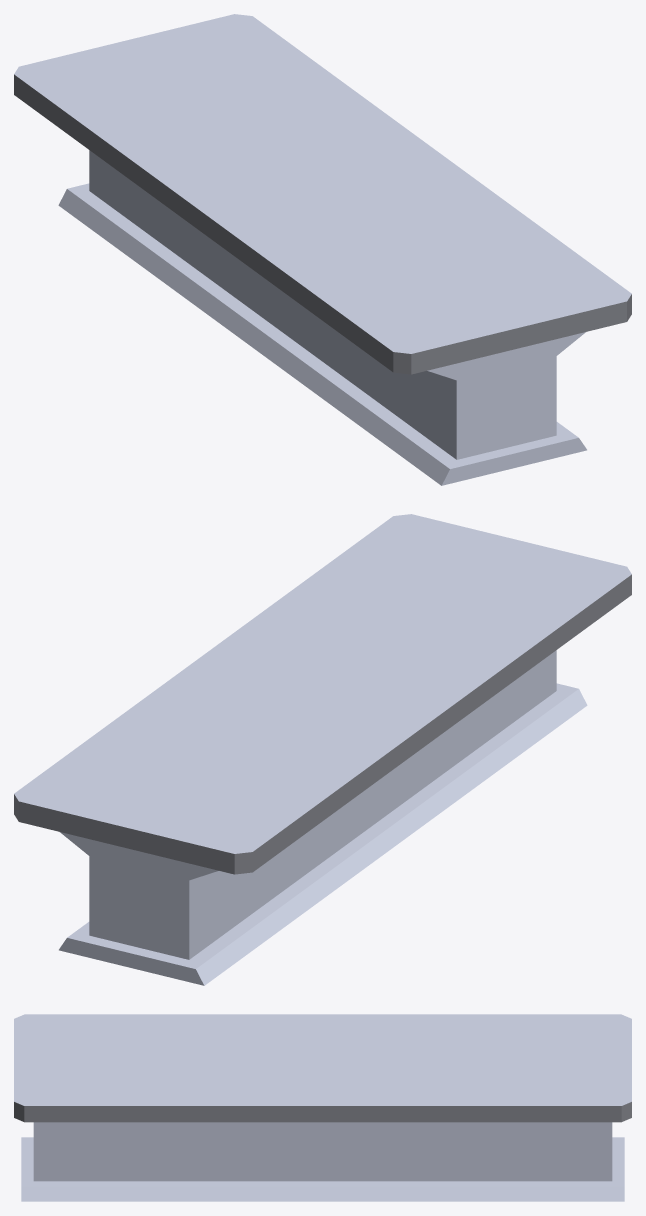
The picture shows the model from 3 angles, top to bottom: view 1: azimuth 30°, elevation 25°; view 2: azimuth 150°, elevation 25°; view 3: azimuth 270°, elevation 25°; orthographic projection. The views are drawn at different scales.
Parts seen in each view (by area): view 1: object_059; view 2: object_059; view 3: object_059.
Boxes of the visible parts, x1,y1,x2,y2 form: object_059: (14,14,631,485); object_059: (14,514,631,985); object_059: (14,1014,631,1201).
Bounding box in the file's own units: 7.06 × 4.07 × 20.12.
